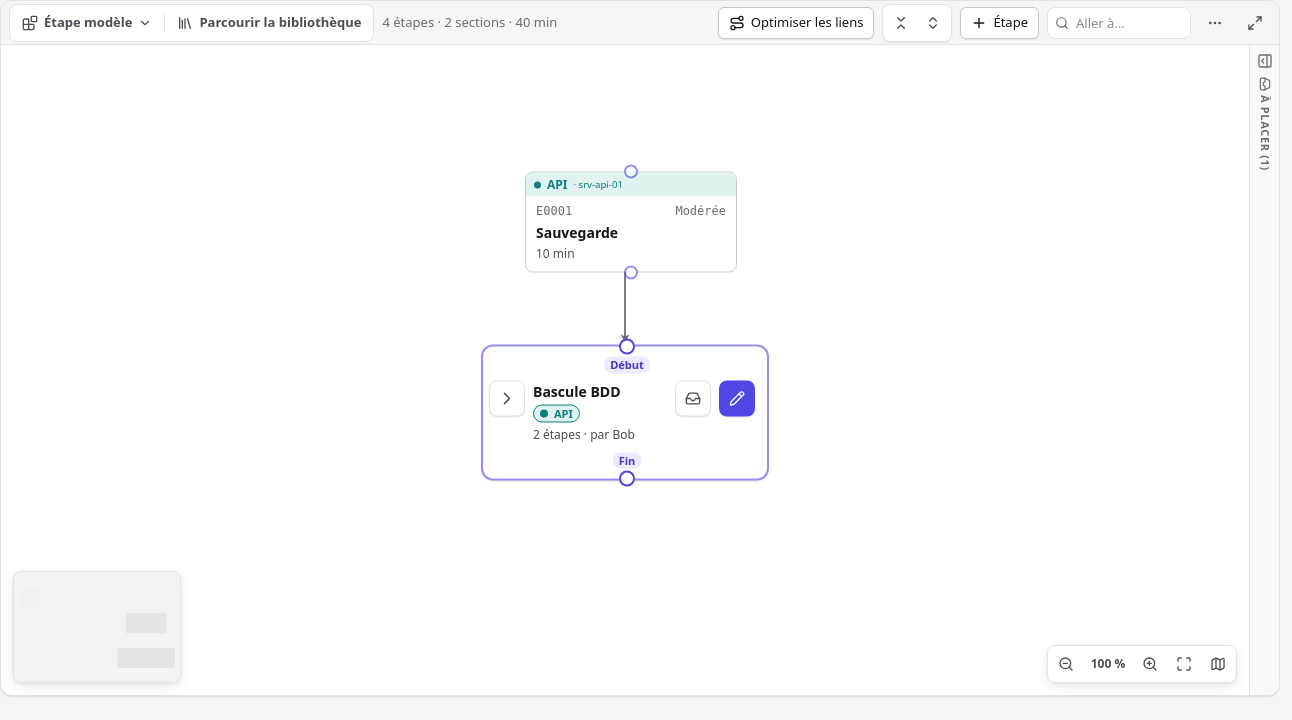
Scenario: Sections du plan › « Tout déplier / Tout replier »
This screenshot has width=1292, height=720.
Check: the element named "Section Bascule BDD, repliée" is shown, box [481,344,769,480]
Click the button named "Tout déplier".
click(934, 22)  # box [918,6,950,38]
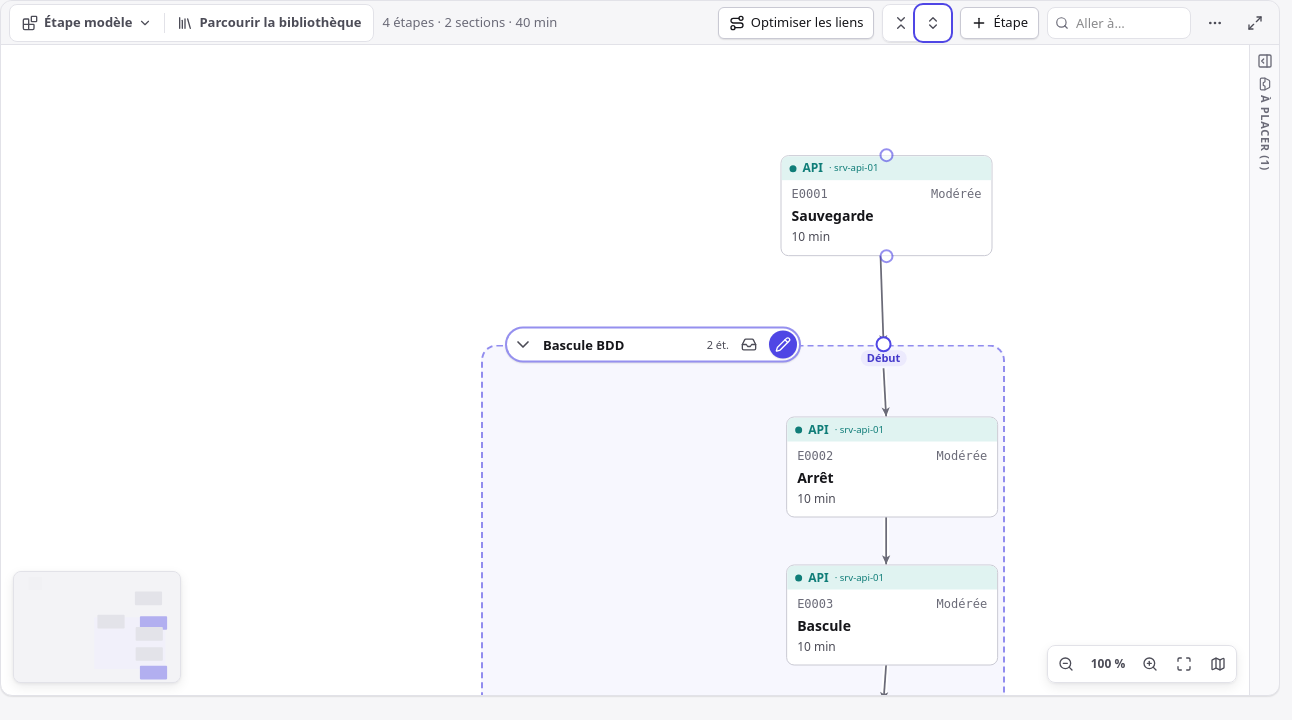
Check: the element named "Section Bascule BDD, dépliée" is shown, box [481,344,1005,695]
Click the button named "Tout replier".
click(902, 22)  # box [886,6,918,38]
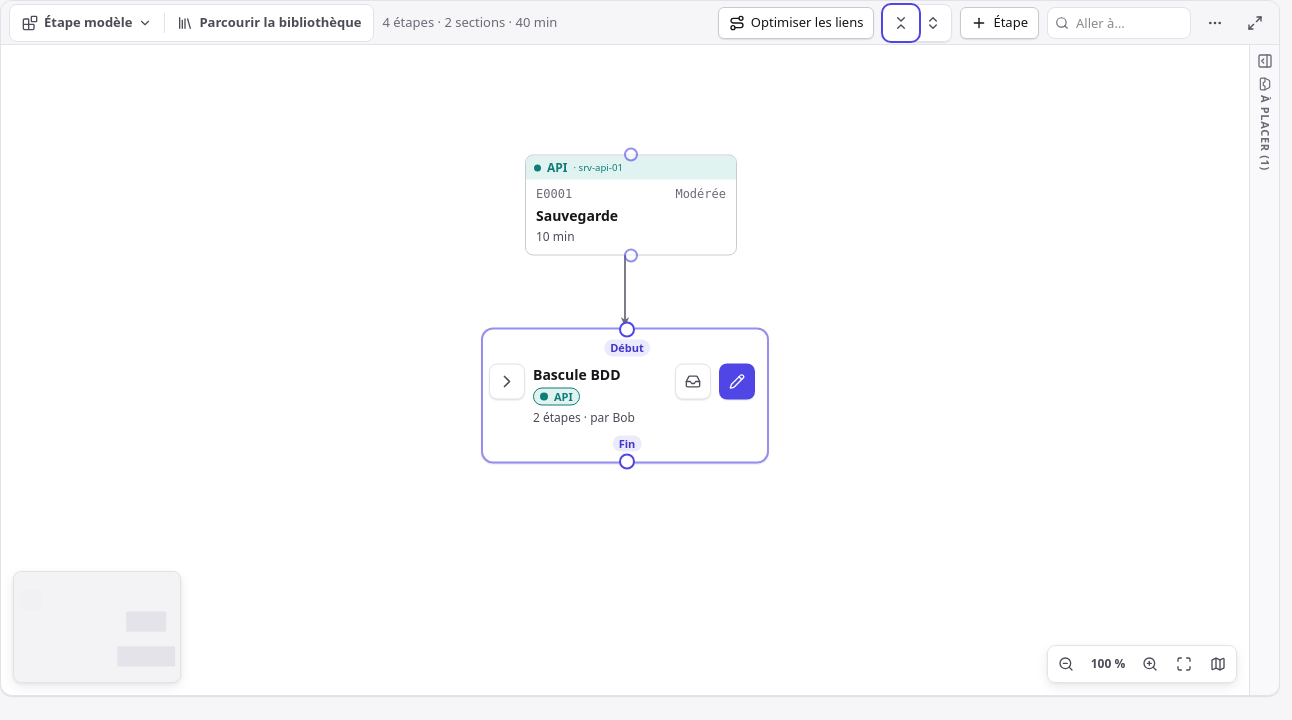
Check: the element named "Section Bascule BDD, repliée" is shown, box [481,328,769,464]
